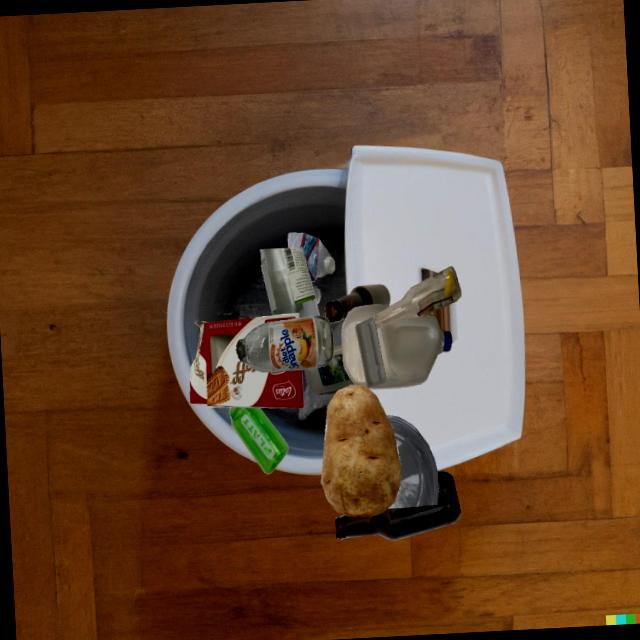biowaste: (321, 385, 401, 518)
cardboard: (190, 313, 304, 408)
glass: (335, 470, 461, 540), (372, 266, 461, 329), (236, 316, 333, 372), (260, 247, 320, 318), (324, 285, 391, 323), (312, 282, 321, 305)
plastic: (367, 314, 452, 390), (386, 415, 439, 509), (341, 305, 391, 387), (229, 407, 288, 474), (304, 345, 356, 395), (288, 233, 335, 282), (355, 318, 386, 388)
